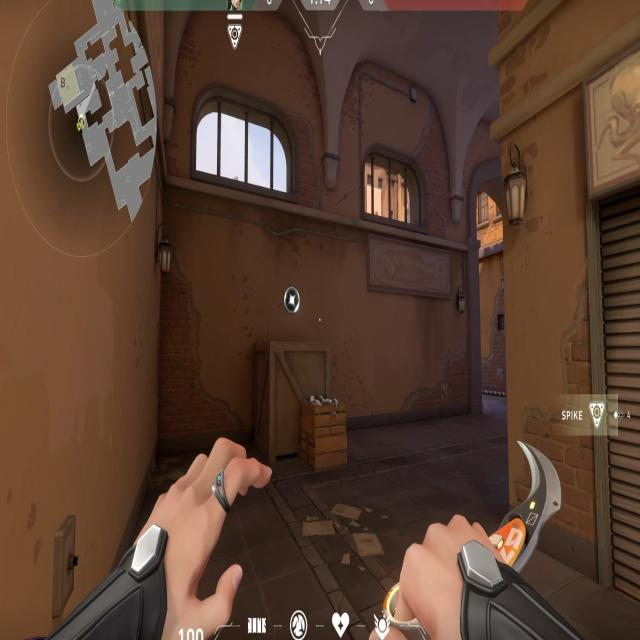B_Main_Wallbang: (212, 279, 305, 449)
Throwables: (187, 72, 303, 212), (360, 143, 433, 239)
